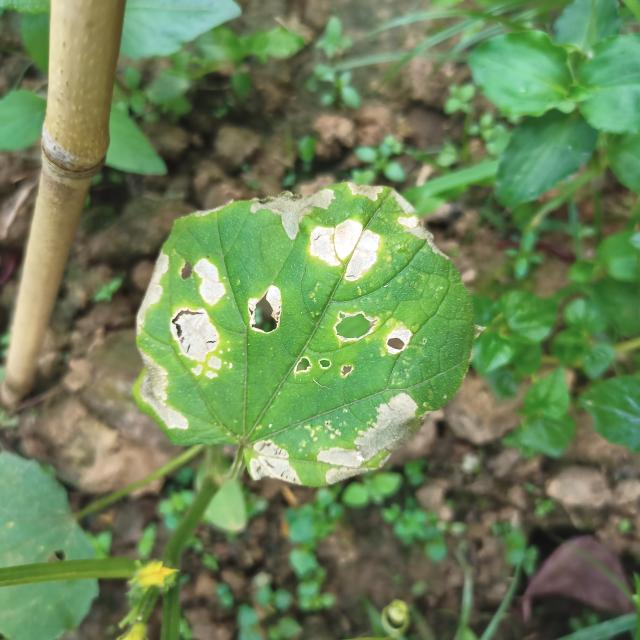disease_cucumber: (250, 176, 475, 380), (130, 247, 289, 435), (238, 391, 434, 501)
